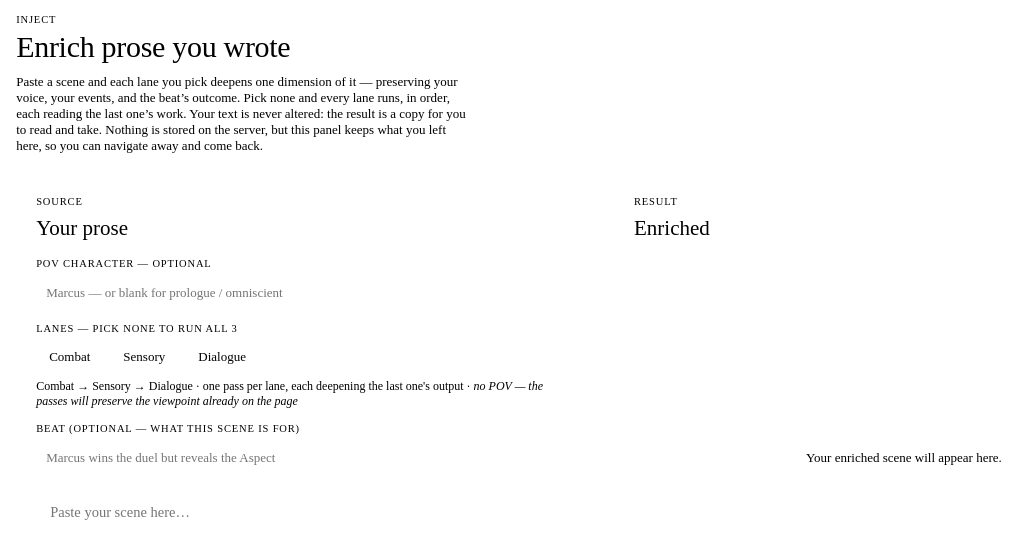
it: EnrichScreen lane selection › shows the run in canonical order, not the order the chips were clicked
The width and height of the screenshot is (1018, 537).
Click the button "Dialogue" at (222, 357), box left=185, top=343, right=259, bottom=371
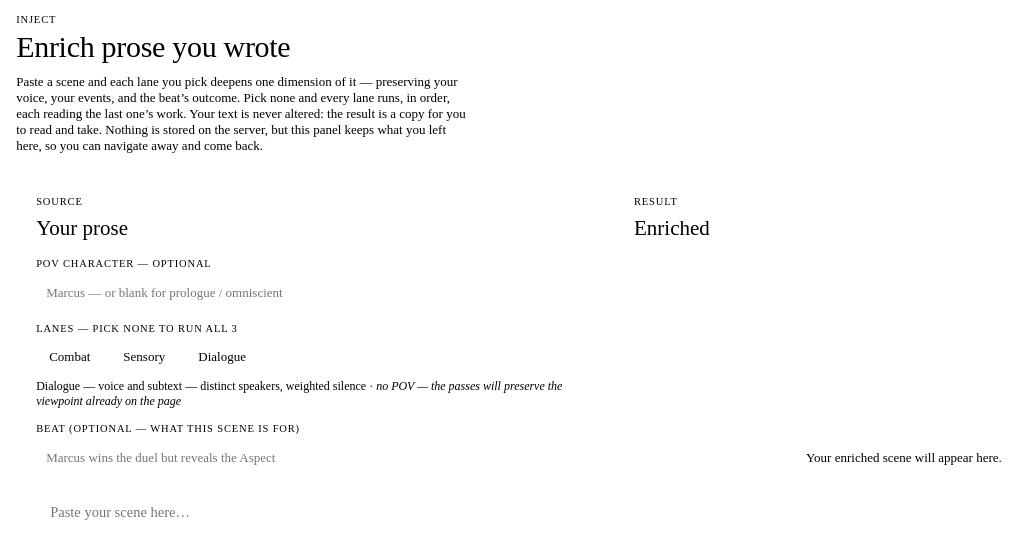
Click the button "Combat" at (70, 357), box left=36, top=343, right=103, bottom=371
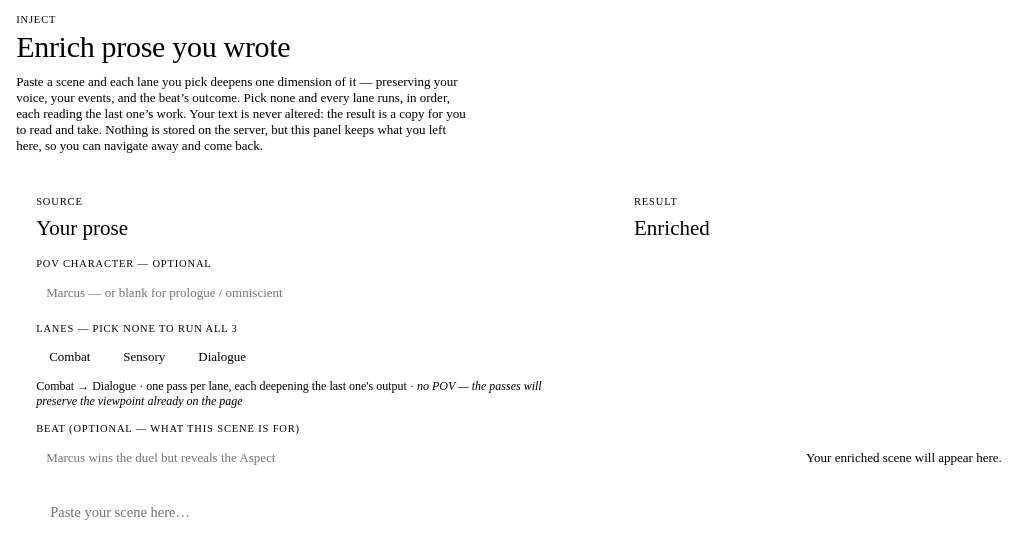
Result: the text "Combat → Dialogue" is shown at left=36, top=379, right=136, bottom=393
